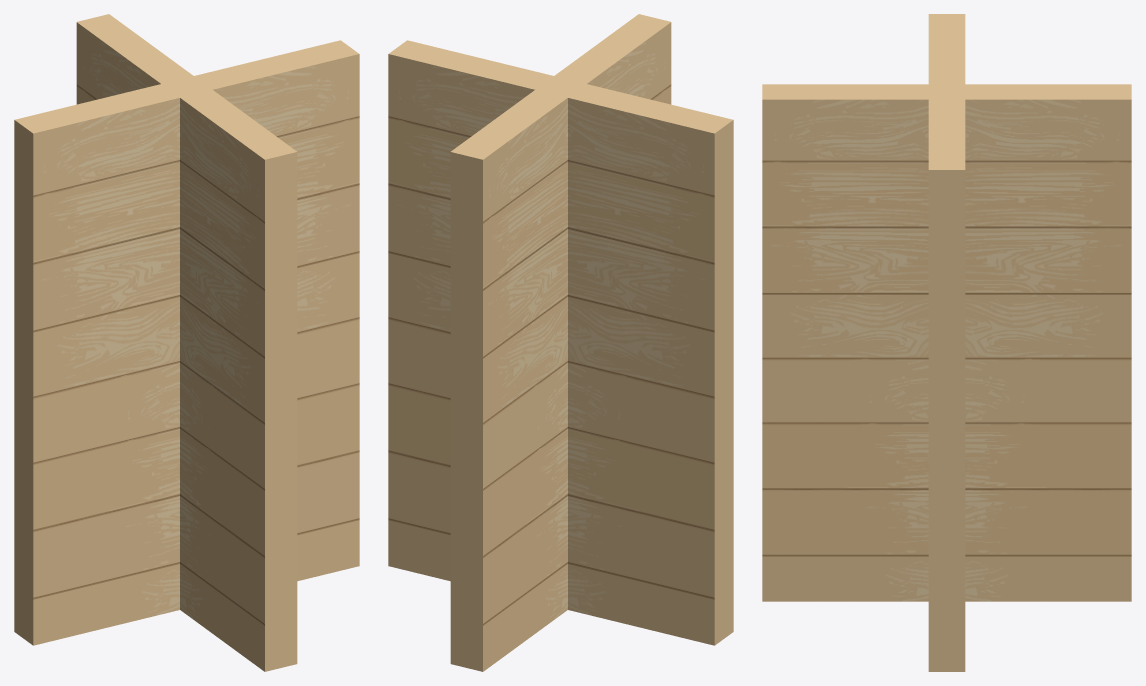
The model's file is Wall Standard 1x3 X.fbx.
The picture shows the model from 3 angles, left to right: view 1: azimuth 30°, elevation 25°; view 2: azimuth 150°, elevation 25°; view 3: azimuth 270°, elevation 25°; orthographic projection. The views are drawn at different scales.
Parts seen in each view (by area): view 1: Wall Standard 1x3 X; view 2: Wall Standard 1x3 X; view 3: Wall Standard 1x3 X.
Part boxes in pixels (x1=…): Wall Standard 1x3 X: x1=14, y1=14, x2=359, y2=671; Wall Standard 1x3 X: x1=388, y1=14, x2=733, y2=671; Wall Standard 1x3 X: x1=762, y1=14, x2=1131, y2=671.
Bounding box in the file's own units: 200 × 300 × 200.
